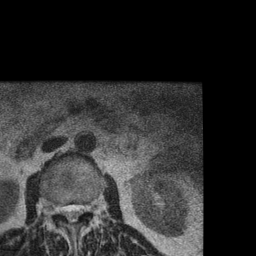CCS_normal: (68, 194, 76, 229)
LFS_normal: (83, 193, 91, 219)
LLS_normal: (76, 193, 83, 223)
RFS_normal: (52, 193, 61, 221)
RLS_normal: (61, 195, 68, 225)
